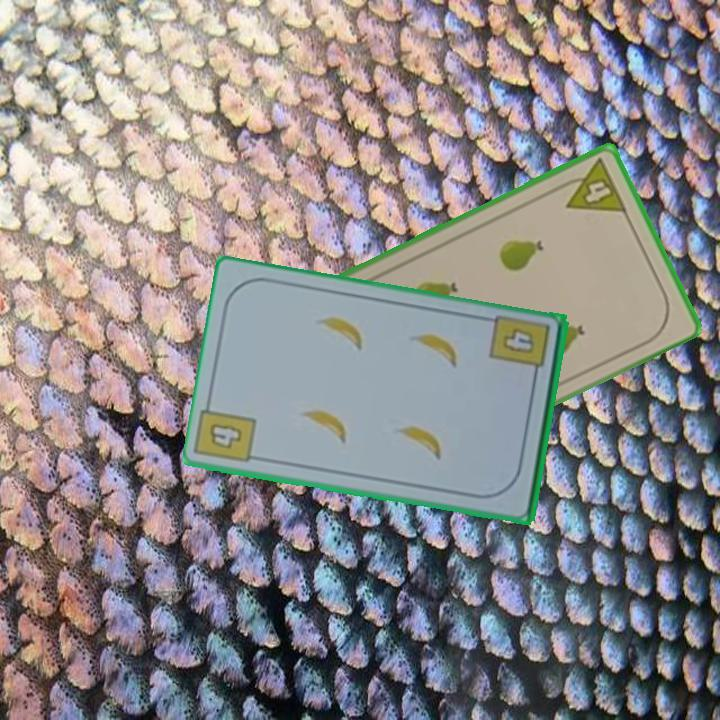4b: (487, 316, 552, 384), (205, 420, 245, 453)
4p: (554, 155, 630, 215)
